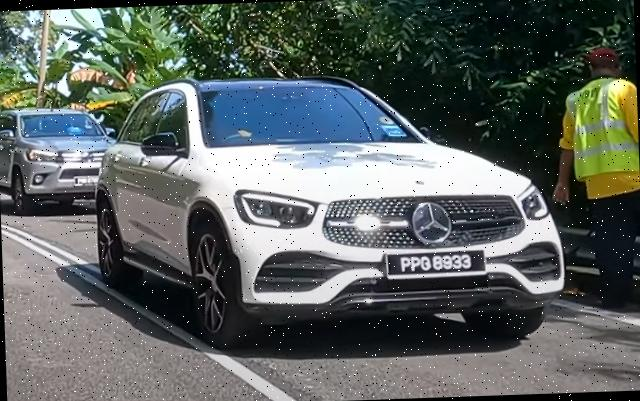License_Plate: (385, 248, 487, 280)
car: (91, 65, 569, 356), (1, 105, 119, 216)
